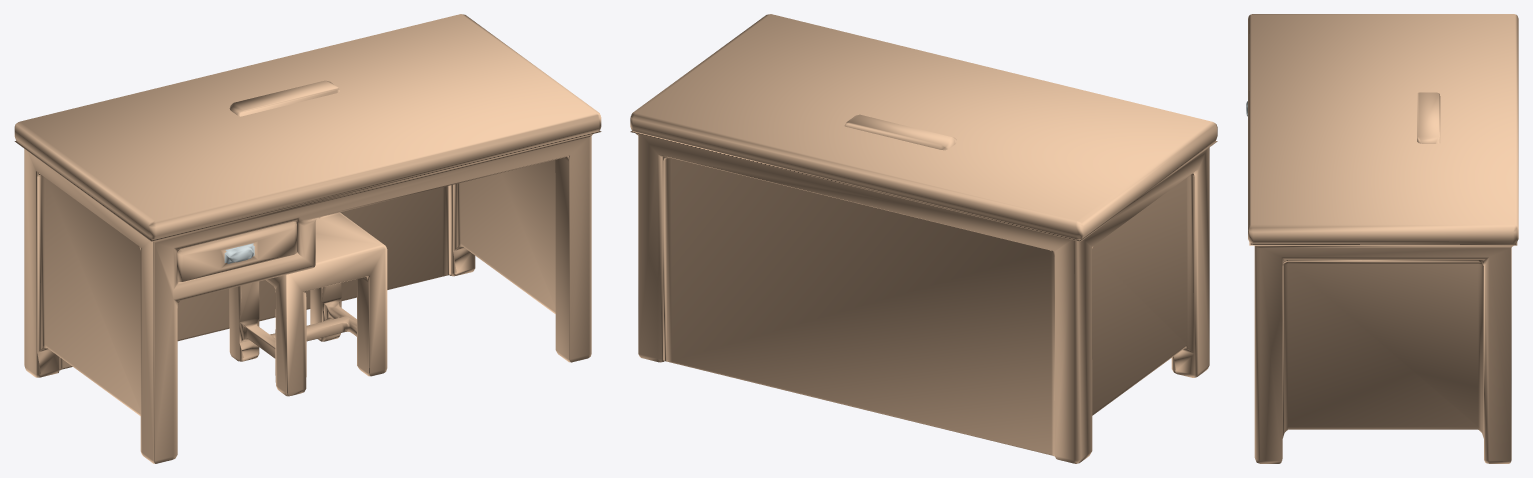
File: desk.glb
The picture shows the model from 3 angles, left to right: view 1: azimuth 30°, elevation 25°; view 2: azimuth 150°, elevation 25°; view 3: azimuth 270°, elevation 25°; orthographic projection. The views are drawn at different scales.
Visible parts, largest first — view 1: desk_desk(Clone), chair_chair(Clone), desk_drawer; view 2: desk_desk(Clone), chair_chair(Clone); view 3: desk_desk(Clone), chair_chair(Clone).
Boxes of the visible parts, left/top/right/bottom form: desk_desk(Clone): left=14, top=14, right=601, bottom=463; chair_chair(Clone): left=229, top=80, right=387, bottom=396; desk_drawer: left=177, top=221, right=296, bottom=281; desk_desk(Clone): left=630, top=14, right=1217, bottom=463; chair_chair(Clone): left=844, top=114, right=956, bottom=150; desk_desk(Clone): left=1248, top=14, right=1518, bottom=463; chair_chair(Clone): left=1417, top=92, right=1440, bottom=143.
Bounding box in the file's own units: 2.47 × 1.32 × 1.32.
